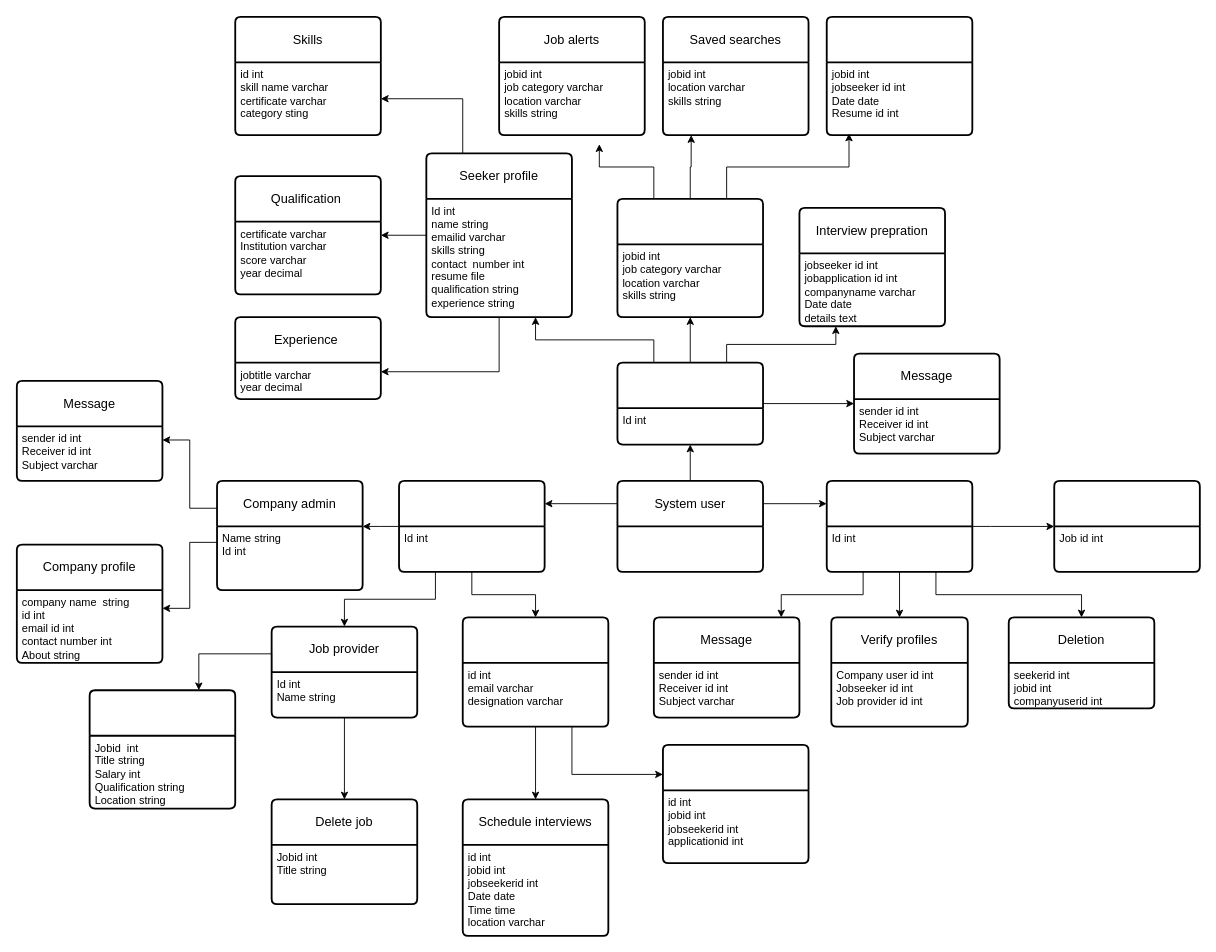
Some shapes in this 1216 by 952 pixel diagram are drawn without their labels. The shapes that lost their labels are listed below. From the top down, each one's box as (x1, y1, x2, y2) in pixels, then its label:
(825, 15, 973, 136): Job applications
(616, 197, 763, 318): Job search
(616, 361, 763, 445): Job seeker
(398, 480, 545, 572): company user
(825, 480, 973, 572): Platform admin
(1053, 480, 1200, 572): Manage jobs
(461, 616, 609, 727): HR Manager
(88, 689, 236, 809): Post job
(662, 743, 809, 864): Manage candidates
